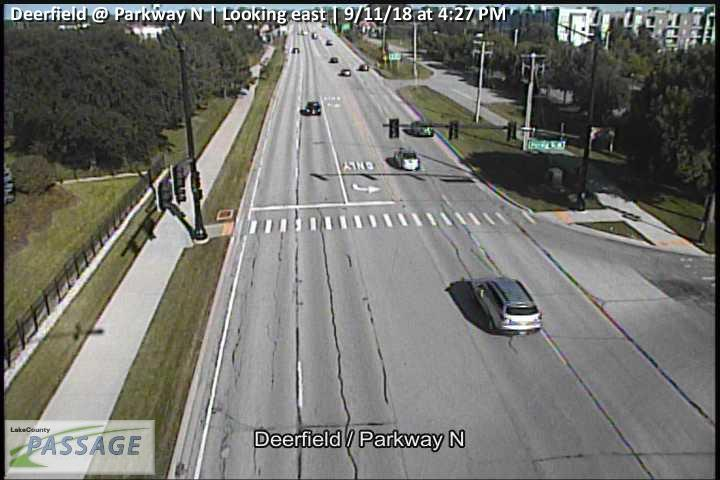SUV: (471, 275, 543, 336)
Sedan: (394, 149, 420, 171), (410, 121, 433, 138), (305, 101, 320, 116), (340, 69, 351, 76), (360, 64, 368, 71), (312, 32, 318, 39), (292, 48, 299, 53), (331, 57, 337, 62), (326, 40, 332, 44)
